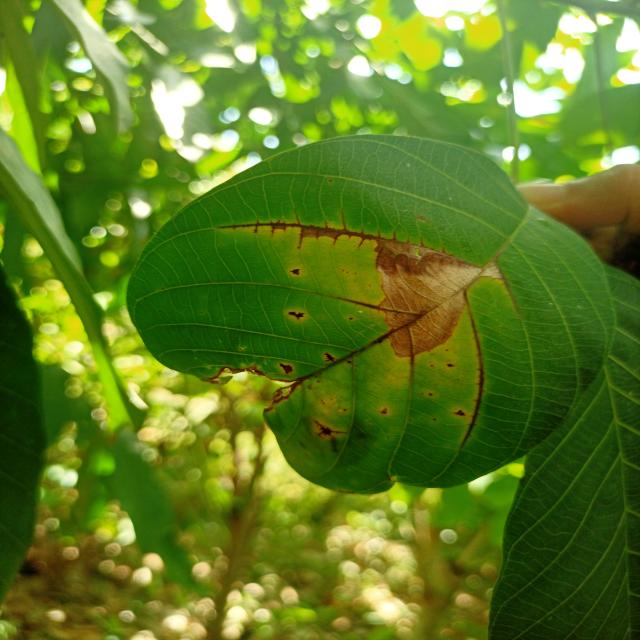Corynespora: (215, 208, 382, 250), (300, 332, 390, 382), (459, 292, 485, 449), (312, 418, 347, 438), (278, 362, 294, 375), (323, 352, 337, 363), (288, 312, 304, 321)
Leaf-Blight: (375, 241, 504, 358)
